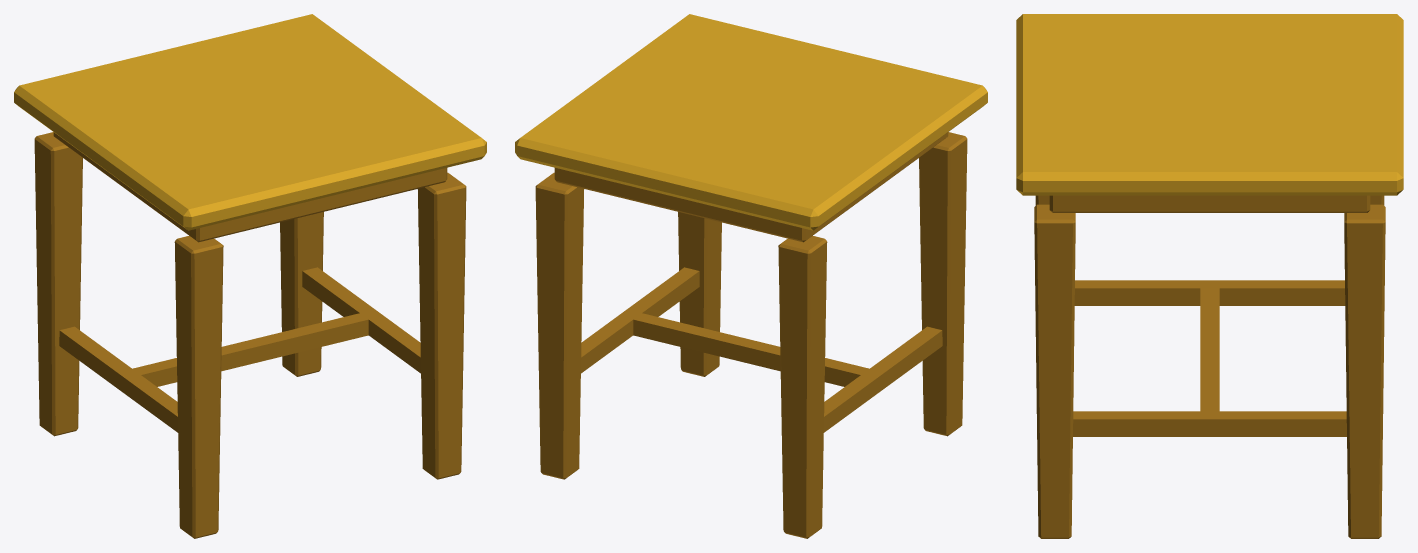
File: table_bar.glb
3 views of the same model, side by side, from view 1: azimuth 30°, elevation 25°; view 2: azimuth 150°, elevation 25°; view 3: azimuth 270°, elevation 25° (orthographic). The views are drawn at different scales.
Visible parts, largest first — view 1: table_bar; view 2: table_bar; view 3: table_bar.
Part boxes in pixels (bbox=[...]): table_bar: bbox=[14, 14, 486, 538]; table_bar: bbox=[515, 14, 987, 538]; table_bar: bbox=[1016, 14, 1403, 538].
Size of the model in its own units: 0.7 by 0.747 by 0.7.
